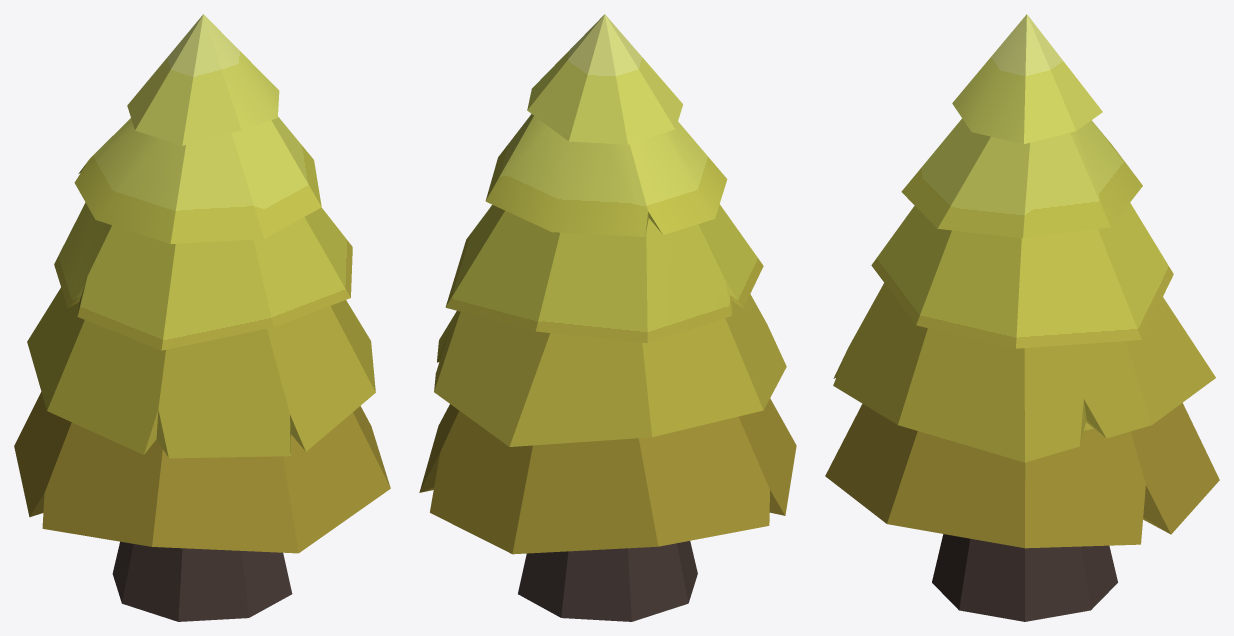
Rendered from tree_sapin-3.glb.
3 renders of one model, left to right at view 1: azimuth 30°, elevation 25°; view 2: azimuth 150°, elevation 25°; view 3: azimuth 270°, elevation 25°, orthographic.
Parts seen in each view (by area): view 1: Object_45; view 2: Object_45; view 3: Object_45.
Part boxes in pixels (box(x1,y1,x2,y2)): Object_45: box(14, 14, 390, 621); Object_45: box(419, 14, 796, 621); Object_45: box(825, 14, 1219, 621).
Size of the model in its own units: 2.45 by 3.94 by 2.48.
1 material, 1 textured.
